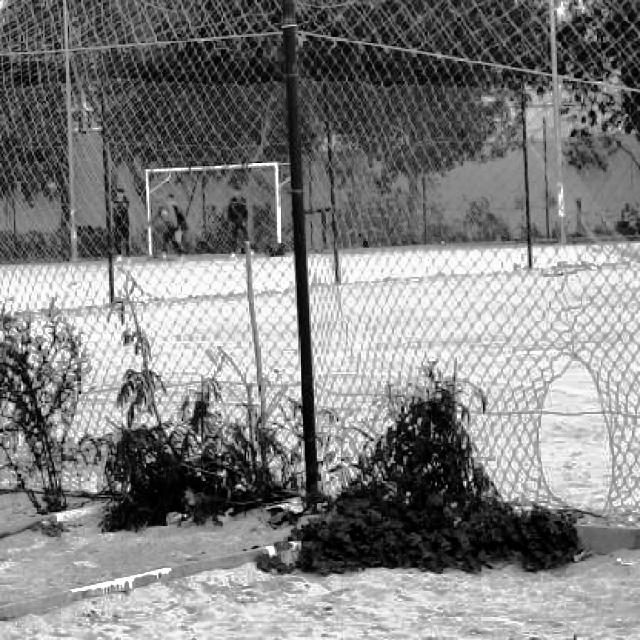anomaly-fence: (507, 290, 640, 544)
